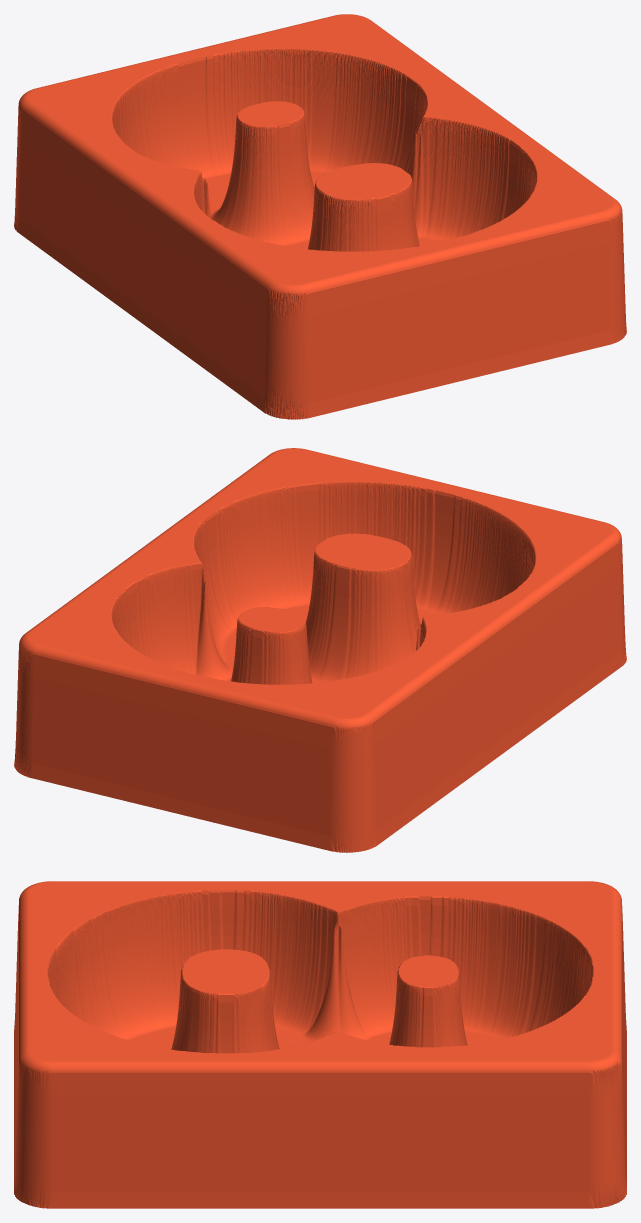
Rendered from mold.glb.
3 renders of one model, top to bottom at view 1: azimuth 30°, elevation 25°; view 2: azimuth 150°, elevation 25°; view 3: azimuth 270°, elevation 25°, orthographic. The views are drawn at different scales.
Visible parts, largest first — view 1: geometry_0; view 2: geometry_0; view 3: geometry_0.
Part boxes in pixels (left/top/right/bottom): geometry_0: left=14, top=14, right=626, bottom=419; geometry_0: left=14, top=448, right=626, bottom=852; geometry_0: left=14, top=881, right=626, bottom=1208.
Bounding box in the file's own units: 0.1062 × 0.0365 × 0.1435.
